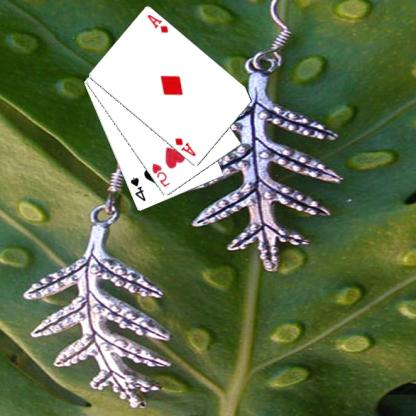4S: (129, 175, 149, 202)
5H: (151, 161, 173, 188)
AD: (146, 12, 172, 35), (174, 135, 199, 158)
